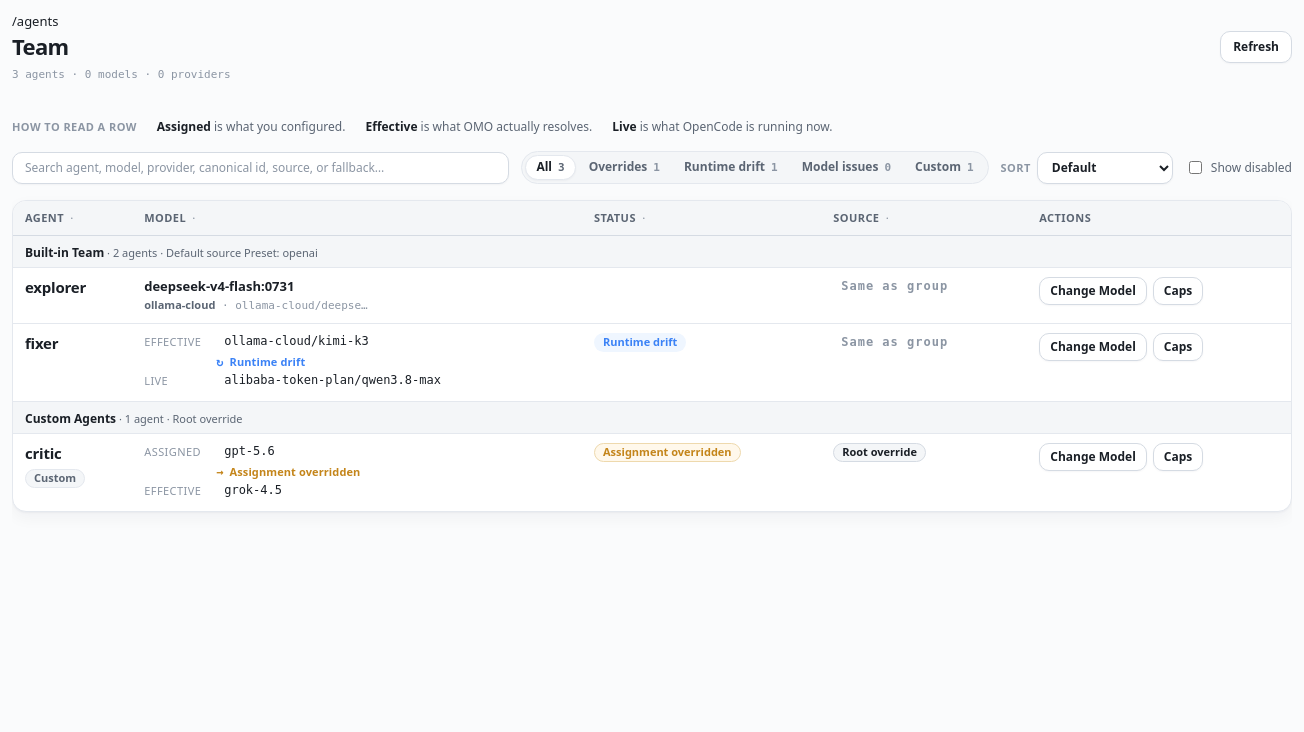
Test: agents URL state — updates › q updates replace — typing never spams history
Replace the text in the search field named "Search agents" with "c": (261, 168) 12,152 -> 509,184
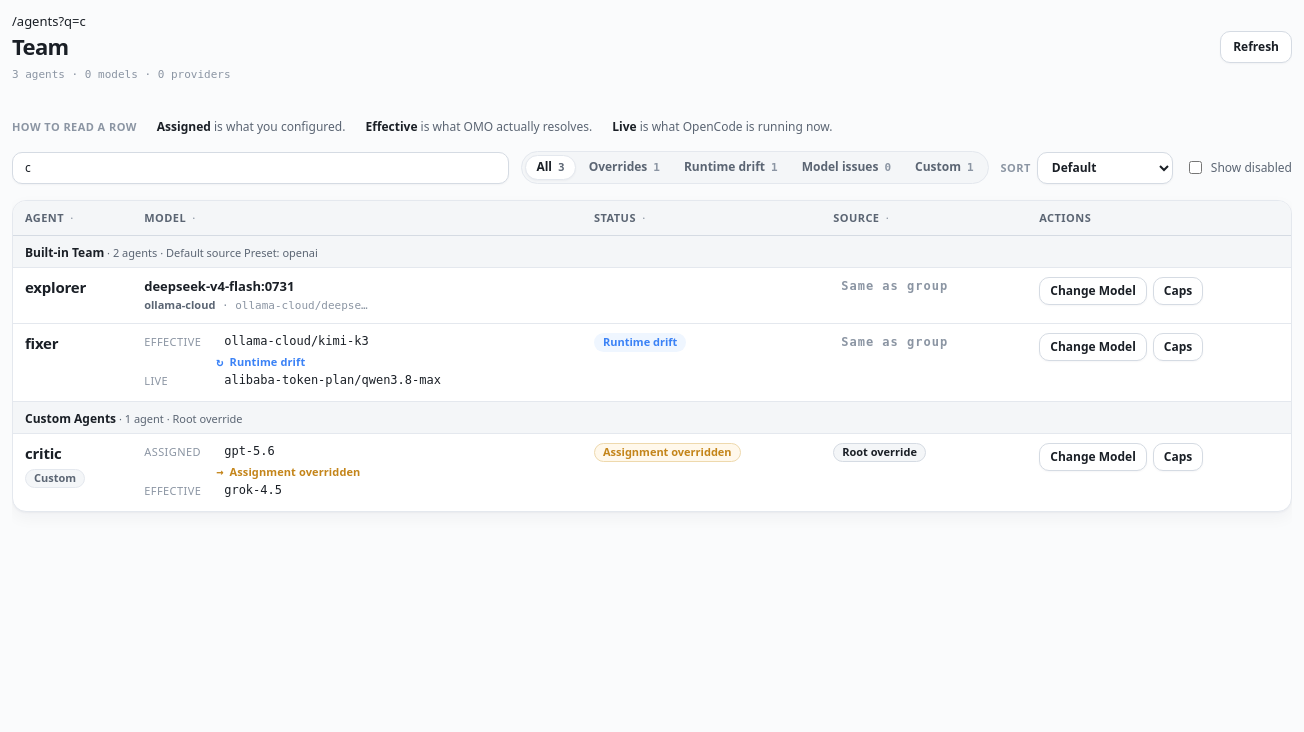
Expected: the text with test id "loc" shows "q=c", 58,12 -> 86,30
Replace the text in the search field named "Search agents" with "critic": (261, 168) 12,152 -> 509,184
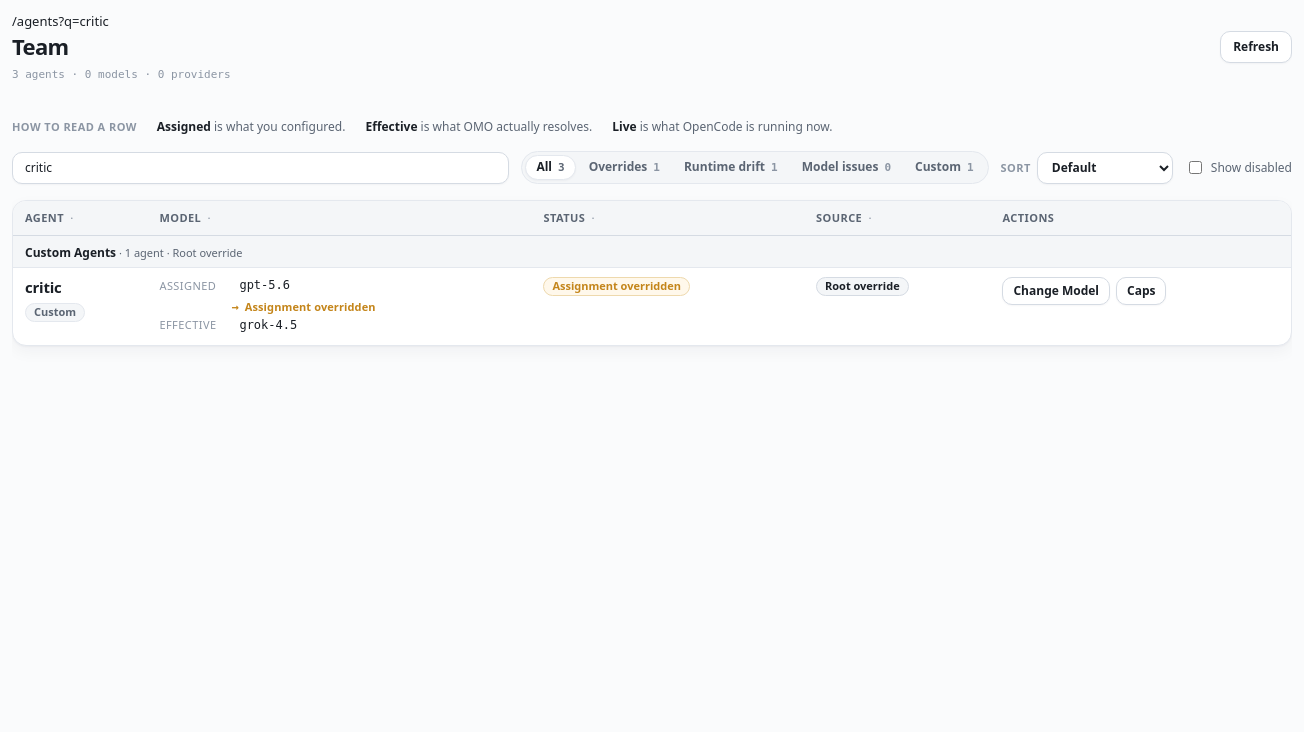
Expected: the text with test id "loc" shows "q=critic", 58,12 -> 109,30
